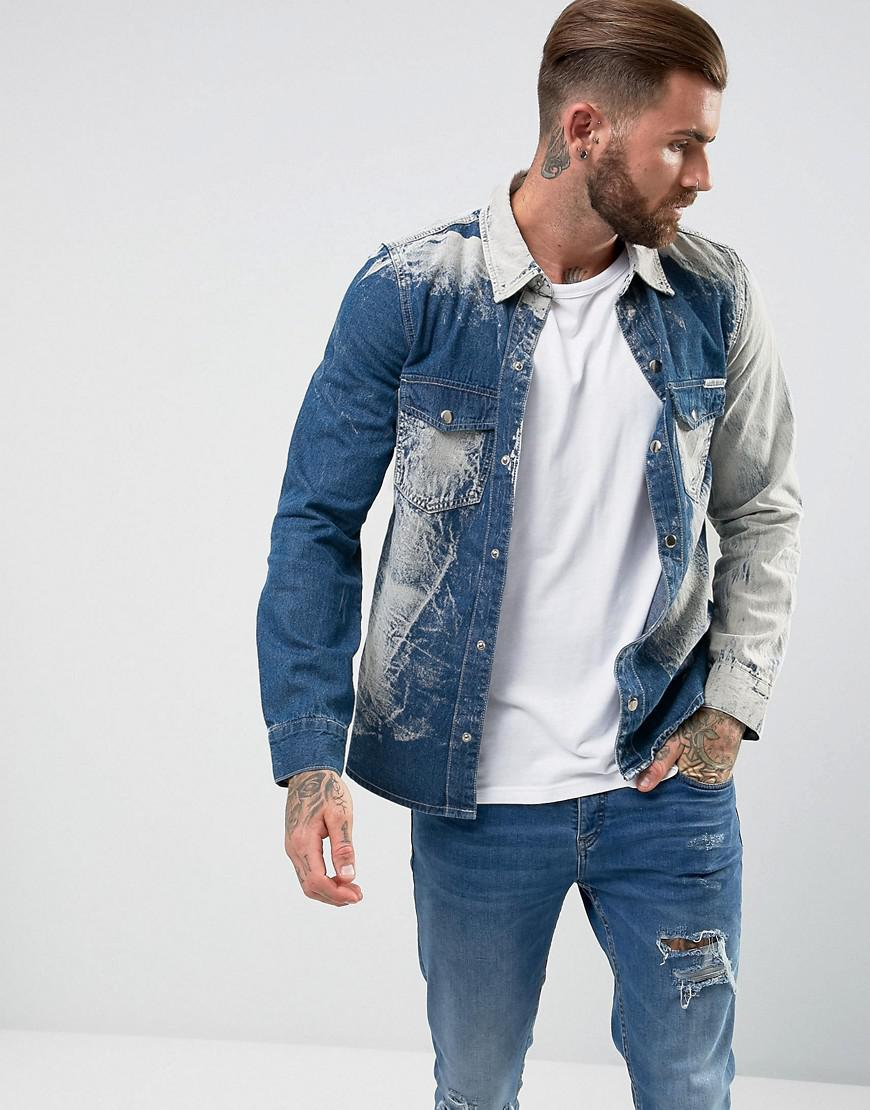teeshirt: (247, 162, 815, 864)
